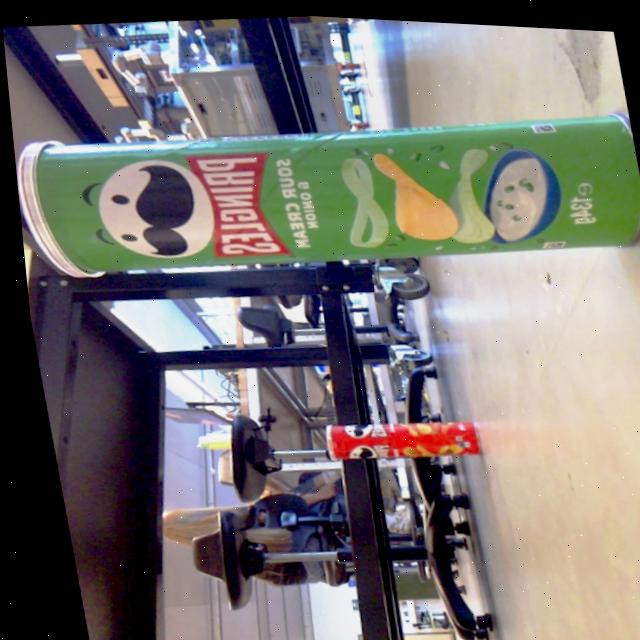greenpringles: (5, 70, 640, 325)
redpringles: (303, 394, 479, 472)
